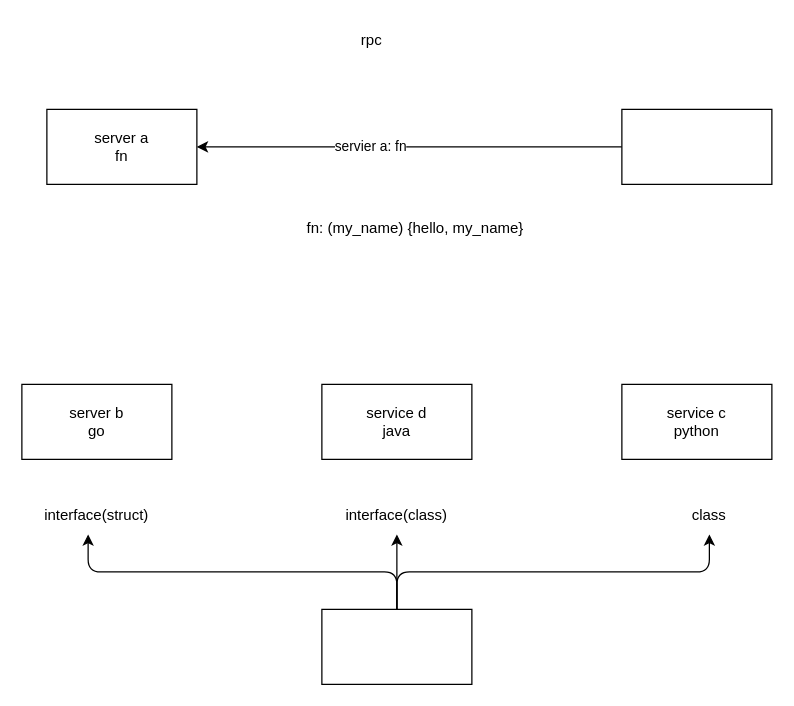
Some shapes in this 794 by 706 pixel diagram are drawn without their labels. Here are the shapes that lost their labels. From the top down, the centre of each, then its label:
At pixel 696 146: "server b".
At pixel 396 646: "protofuf".
